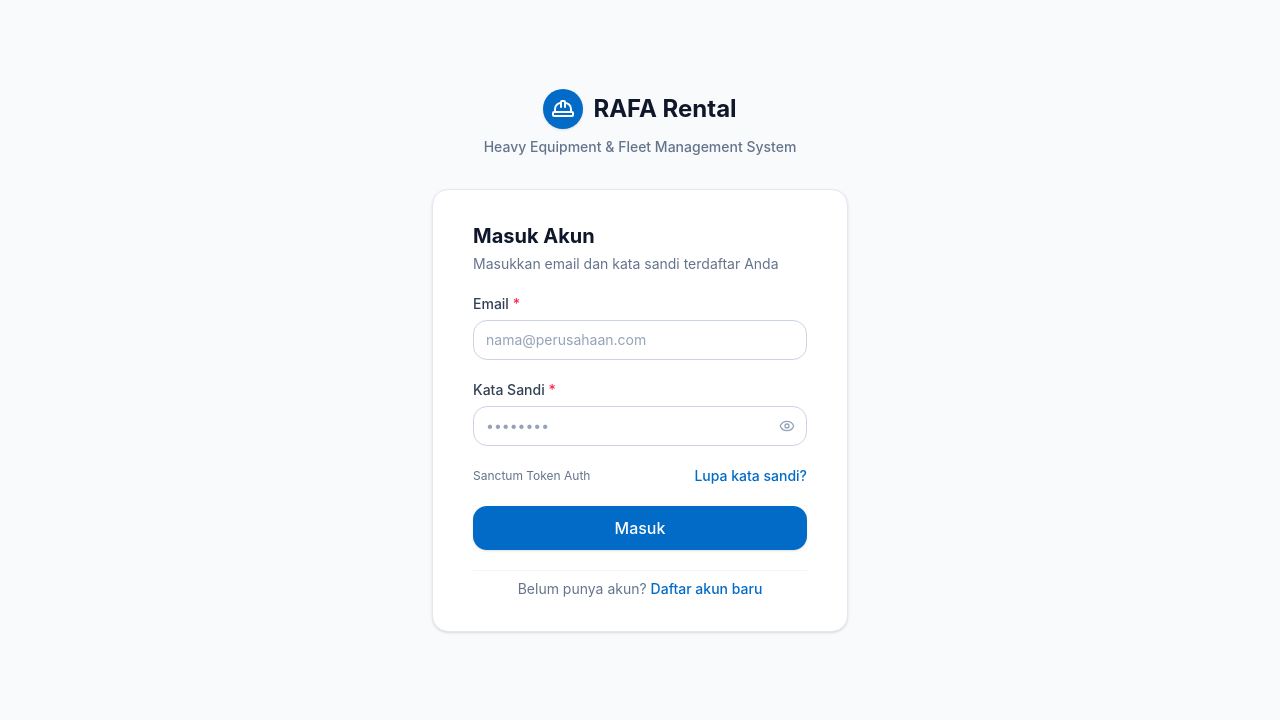
Frontend End-to-End Authentication Journey › admin login redirects directly to Admin Workspace (/admin)
Step 1. Type "admin@rafarental.com" into the field labelled "Email *" → (640,340), box top-left (473, 320), bottom-right (807, 360)
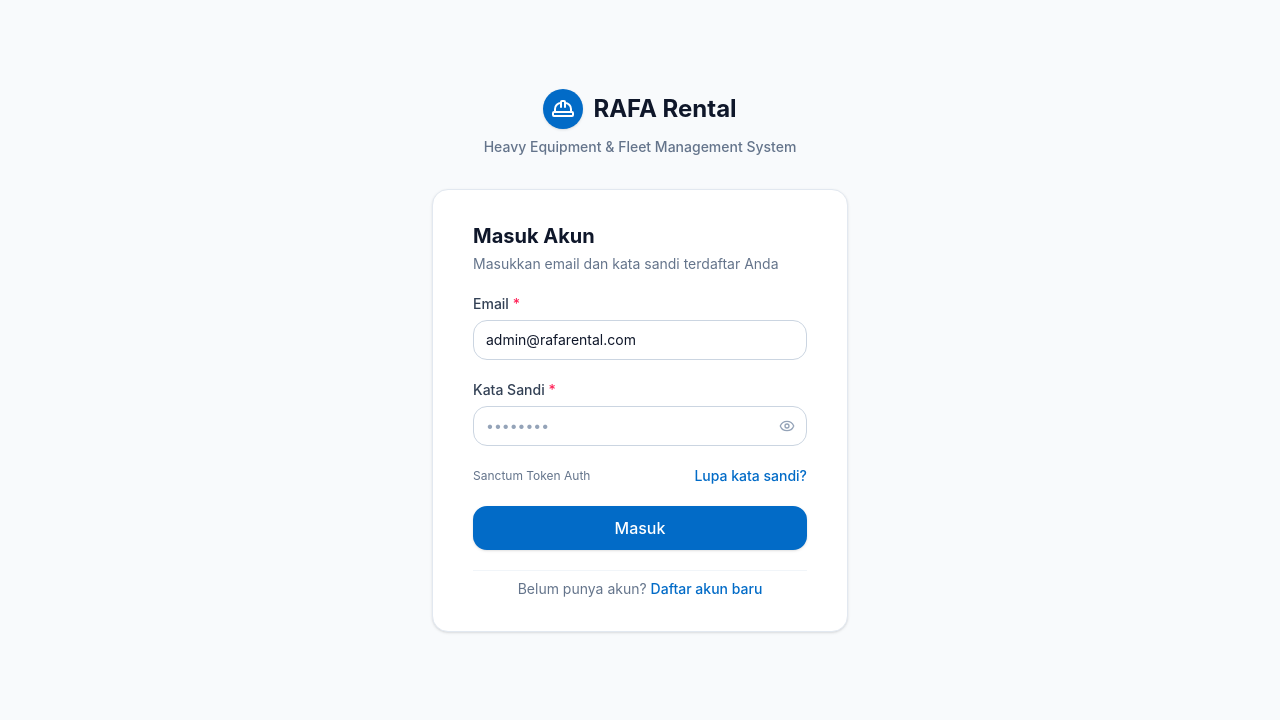
Step 2. Type "password123" into the password field labelled "Kata Sandi *" → (640,426), box top-left (473, 406), bottom-right (807, 446)
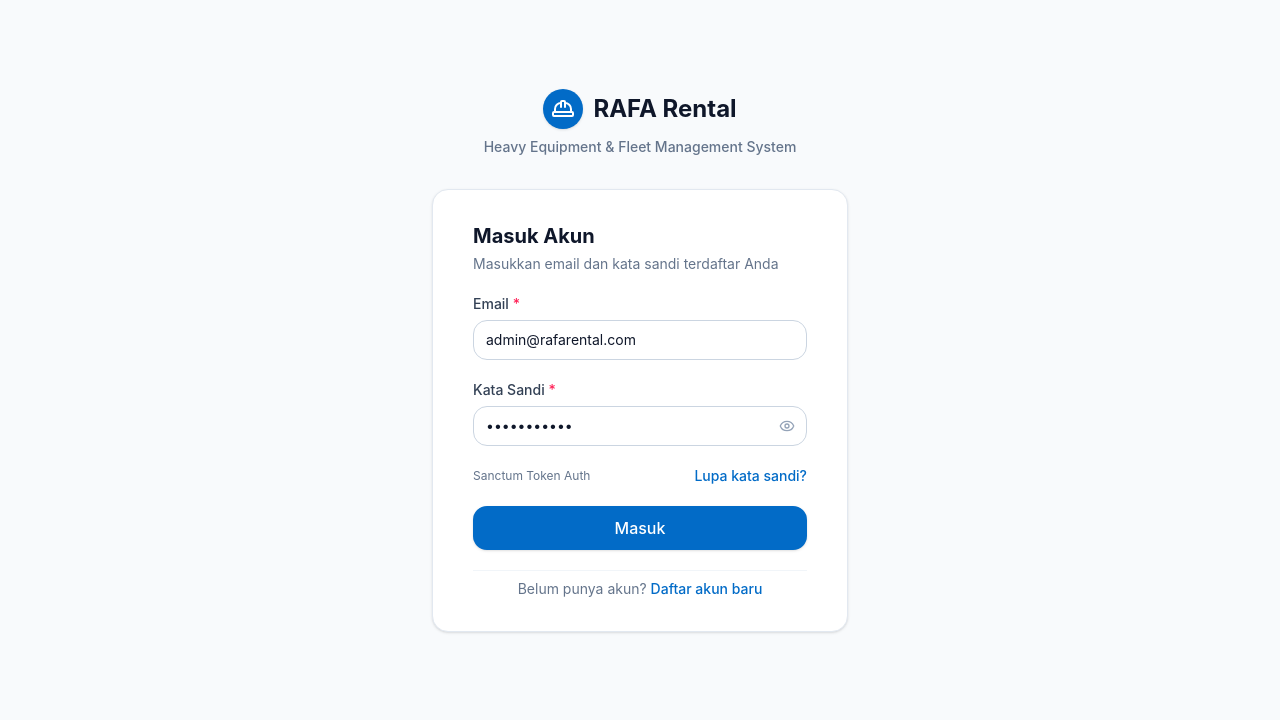
Step 3. Click the button "Masuk" → (640,528), box top-left (473, 506), bottom-right (807, 550)
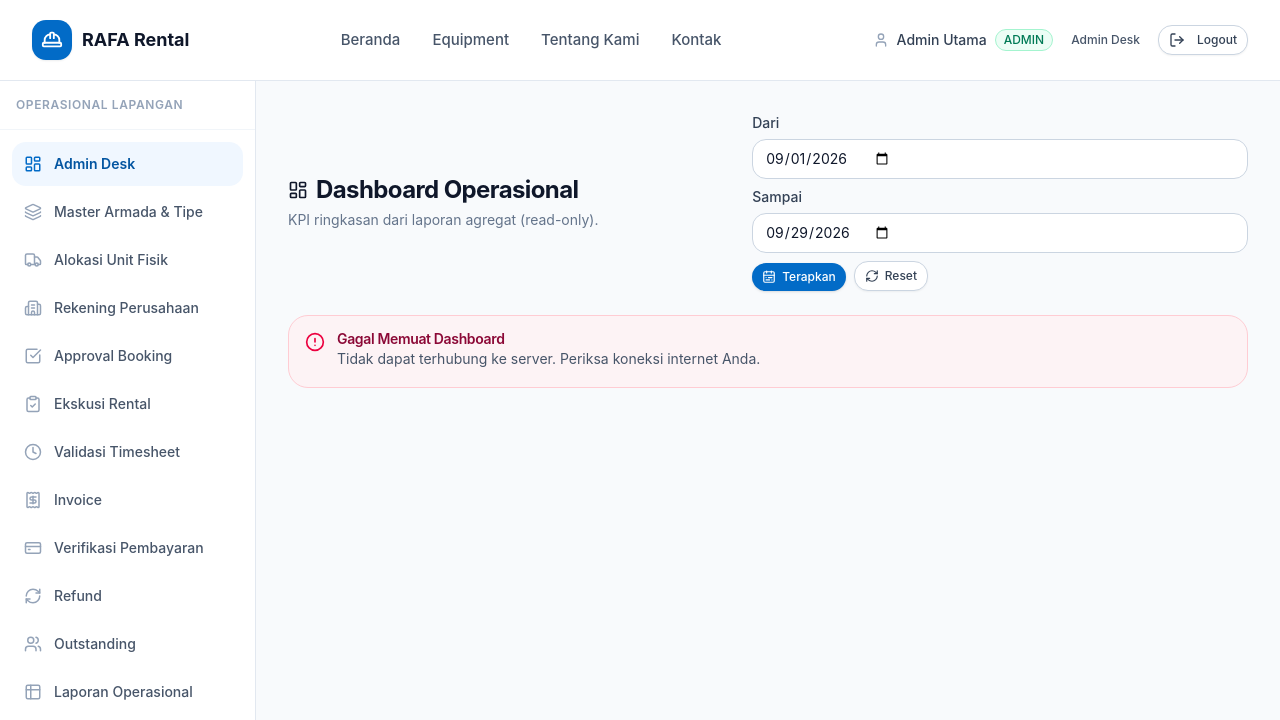
Check: the heading "Dashboard Operasional" is shown, box top-left (288, 174), bottom-right (598, 206)
Check: the text "Admin Utama" is shown, box top-left (897, 30), bottom-right (987, 50)
Check: the text "ADMIN" is shown, box top-left (995, 29), bottom-right (1053, 51)
